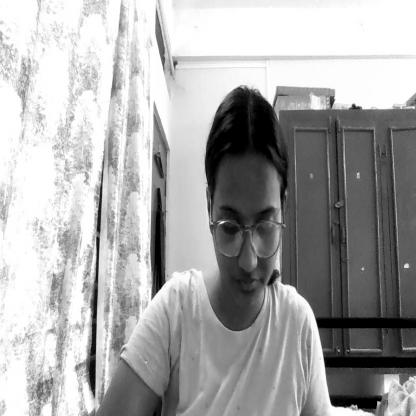Distracted: (210, 103, 283, 308)
